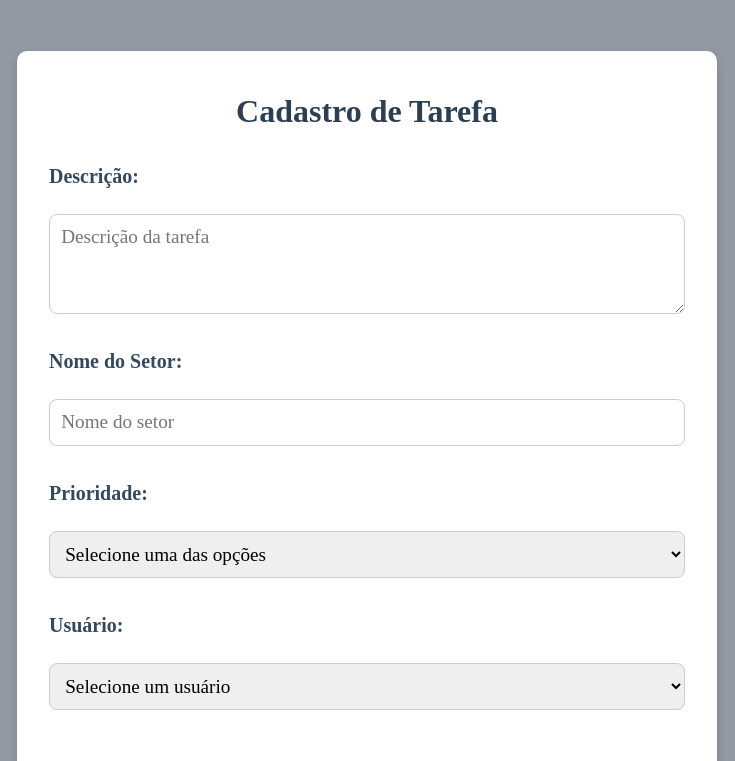
it: CadTarefa › deve exibir erro quando a descrição tem menos de 10 caracteres
The width and height of the screenshot is (735, 761).
In the text box labelled "Descrição:": (367, 264) [49,214,685,314], type "curta"
(page scrolled)
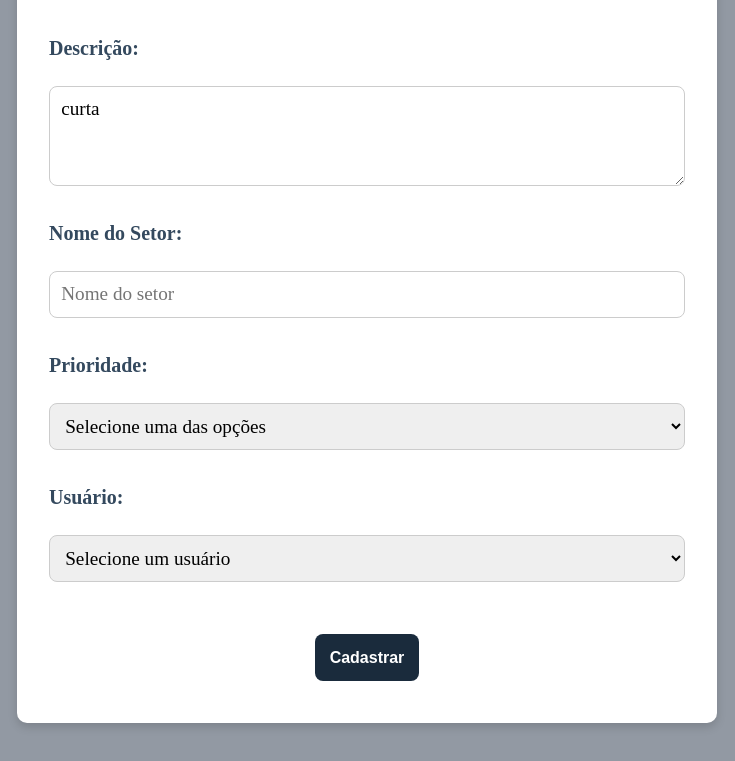
Click the button "Cadastrar": (367, 658) [315,634,419,681]
(page scrolled)
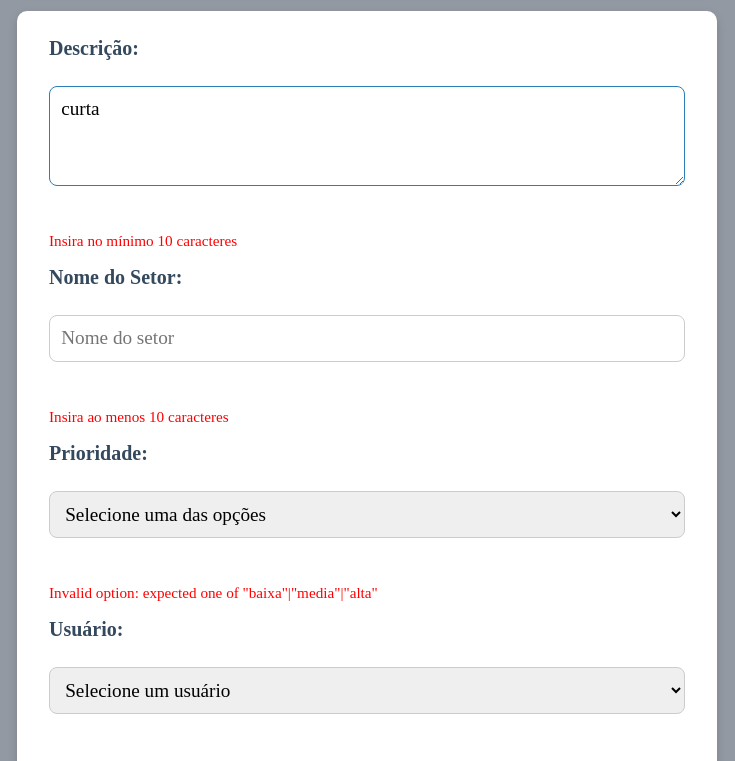
Expected: the text "Insira ao menos 10 caracteres" is shown, [49,408,229,424]
